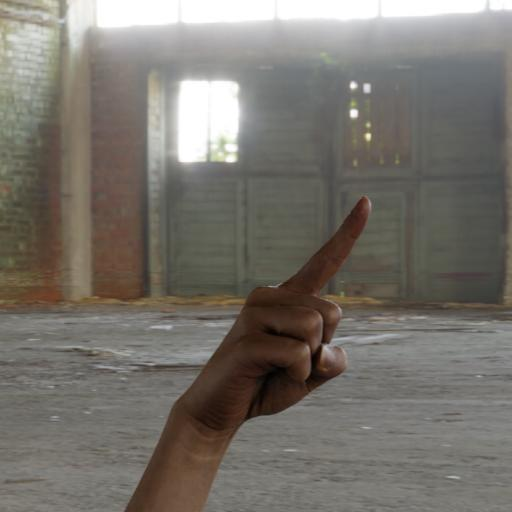J: (171, 192, 375, 436)
